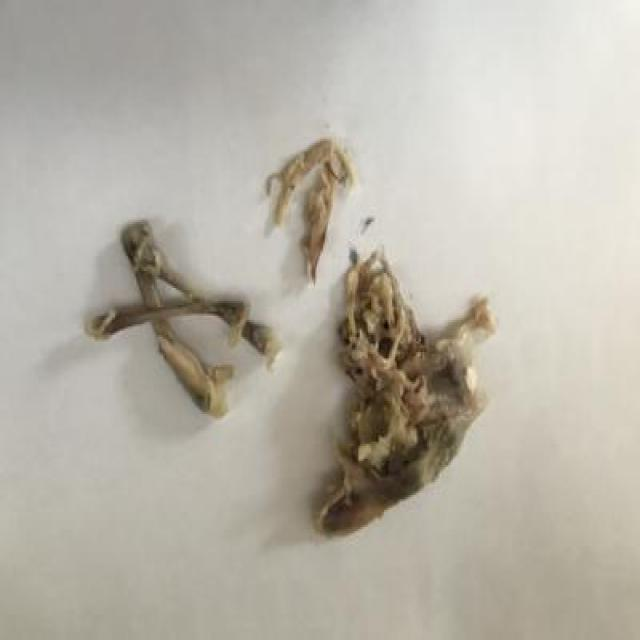compost: (83, 137, 520, 534)
